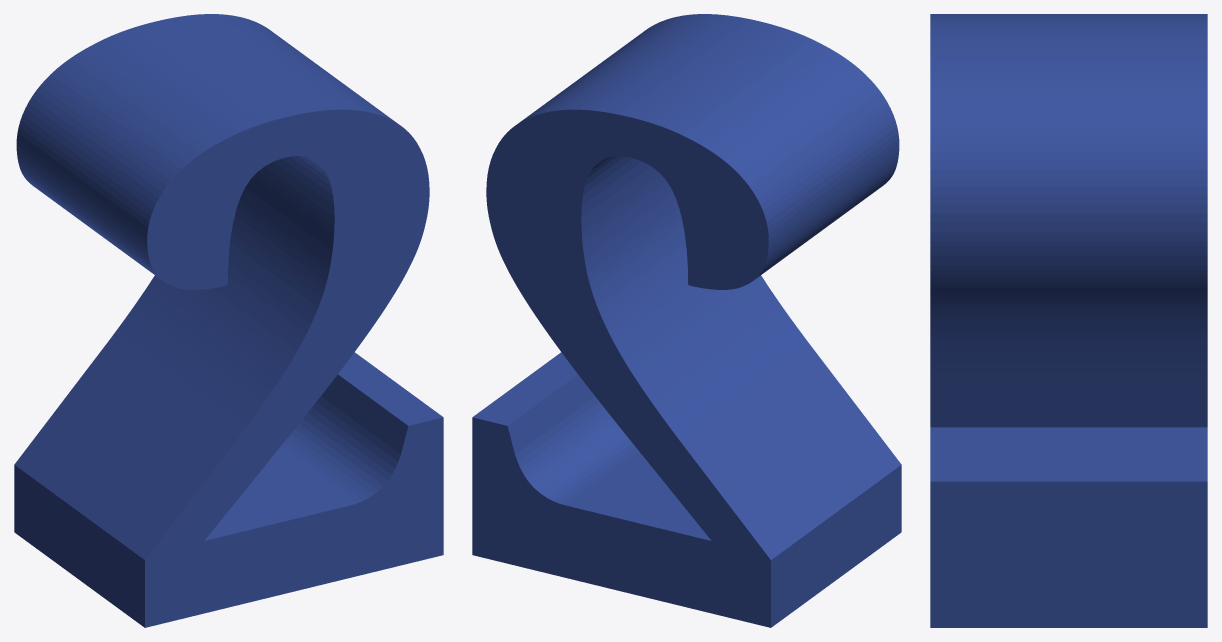
Rendered from tinker.obj.
The picture shows the model from 3 angles, left to right: view 1: azimuth 30°, elevation 25°; view 2: azimuth 150°, elevation 25°; view 3: azimuth 270°, elevation 25°; orthographic projection. The views are drawn at different scales.
Visible parts, largest first — view 1: obj_0; view 2: obj_0; view 3: obj_0.
Boxes of the visible parts, bbox=[...] form: obj_0: bbox=[14, 14, 443, 627]; obj_0: bbox=[472, 14, 901, 627]; obj_0: bbox=[930, 14, 1207, 627].
Bounding box in the file's own units: 73.84 × 113 × 55.94.
